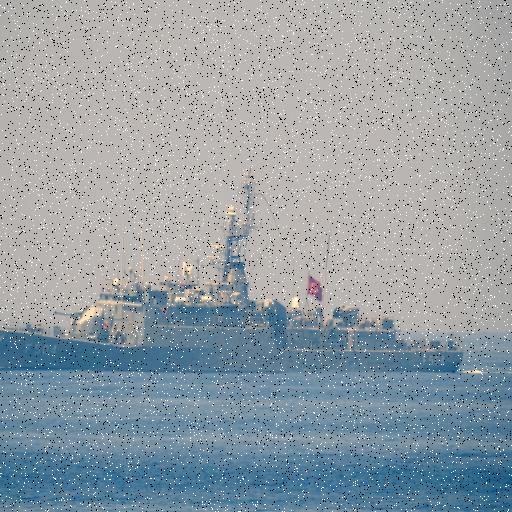Fragata: (1, 164, 474, 378)
